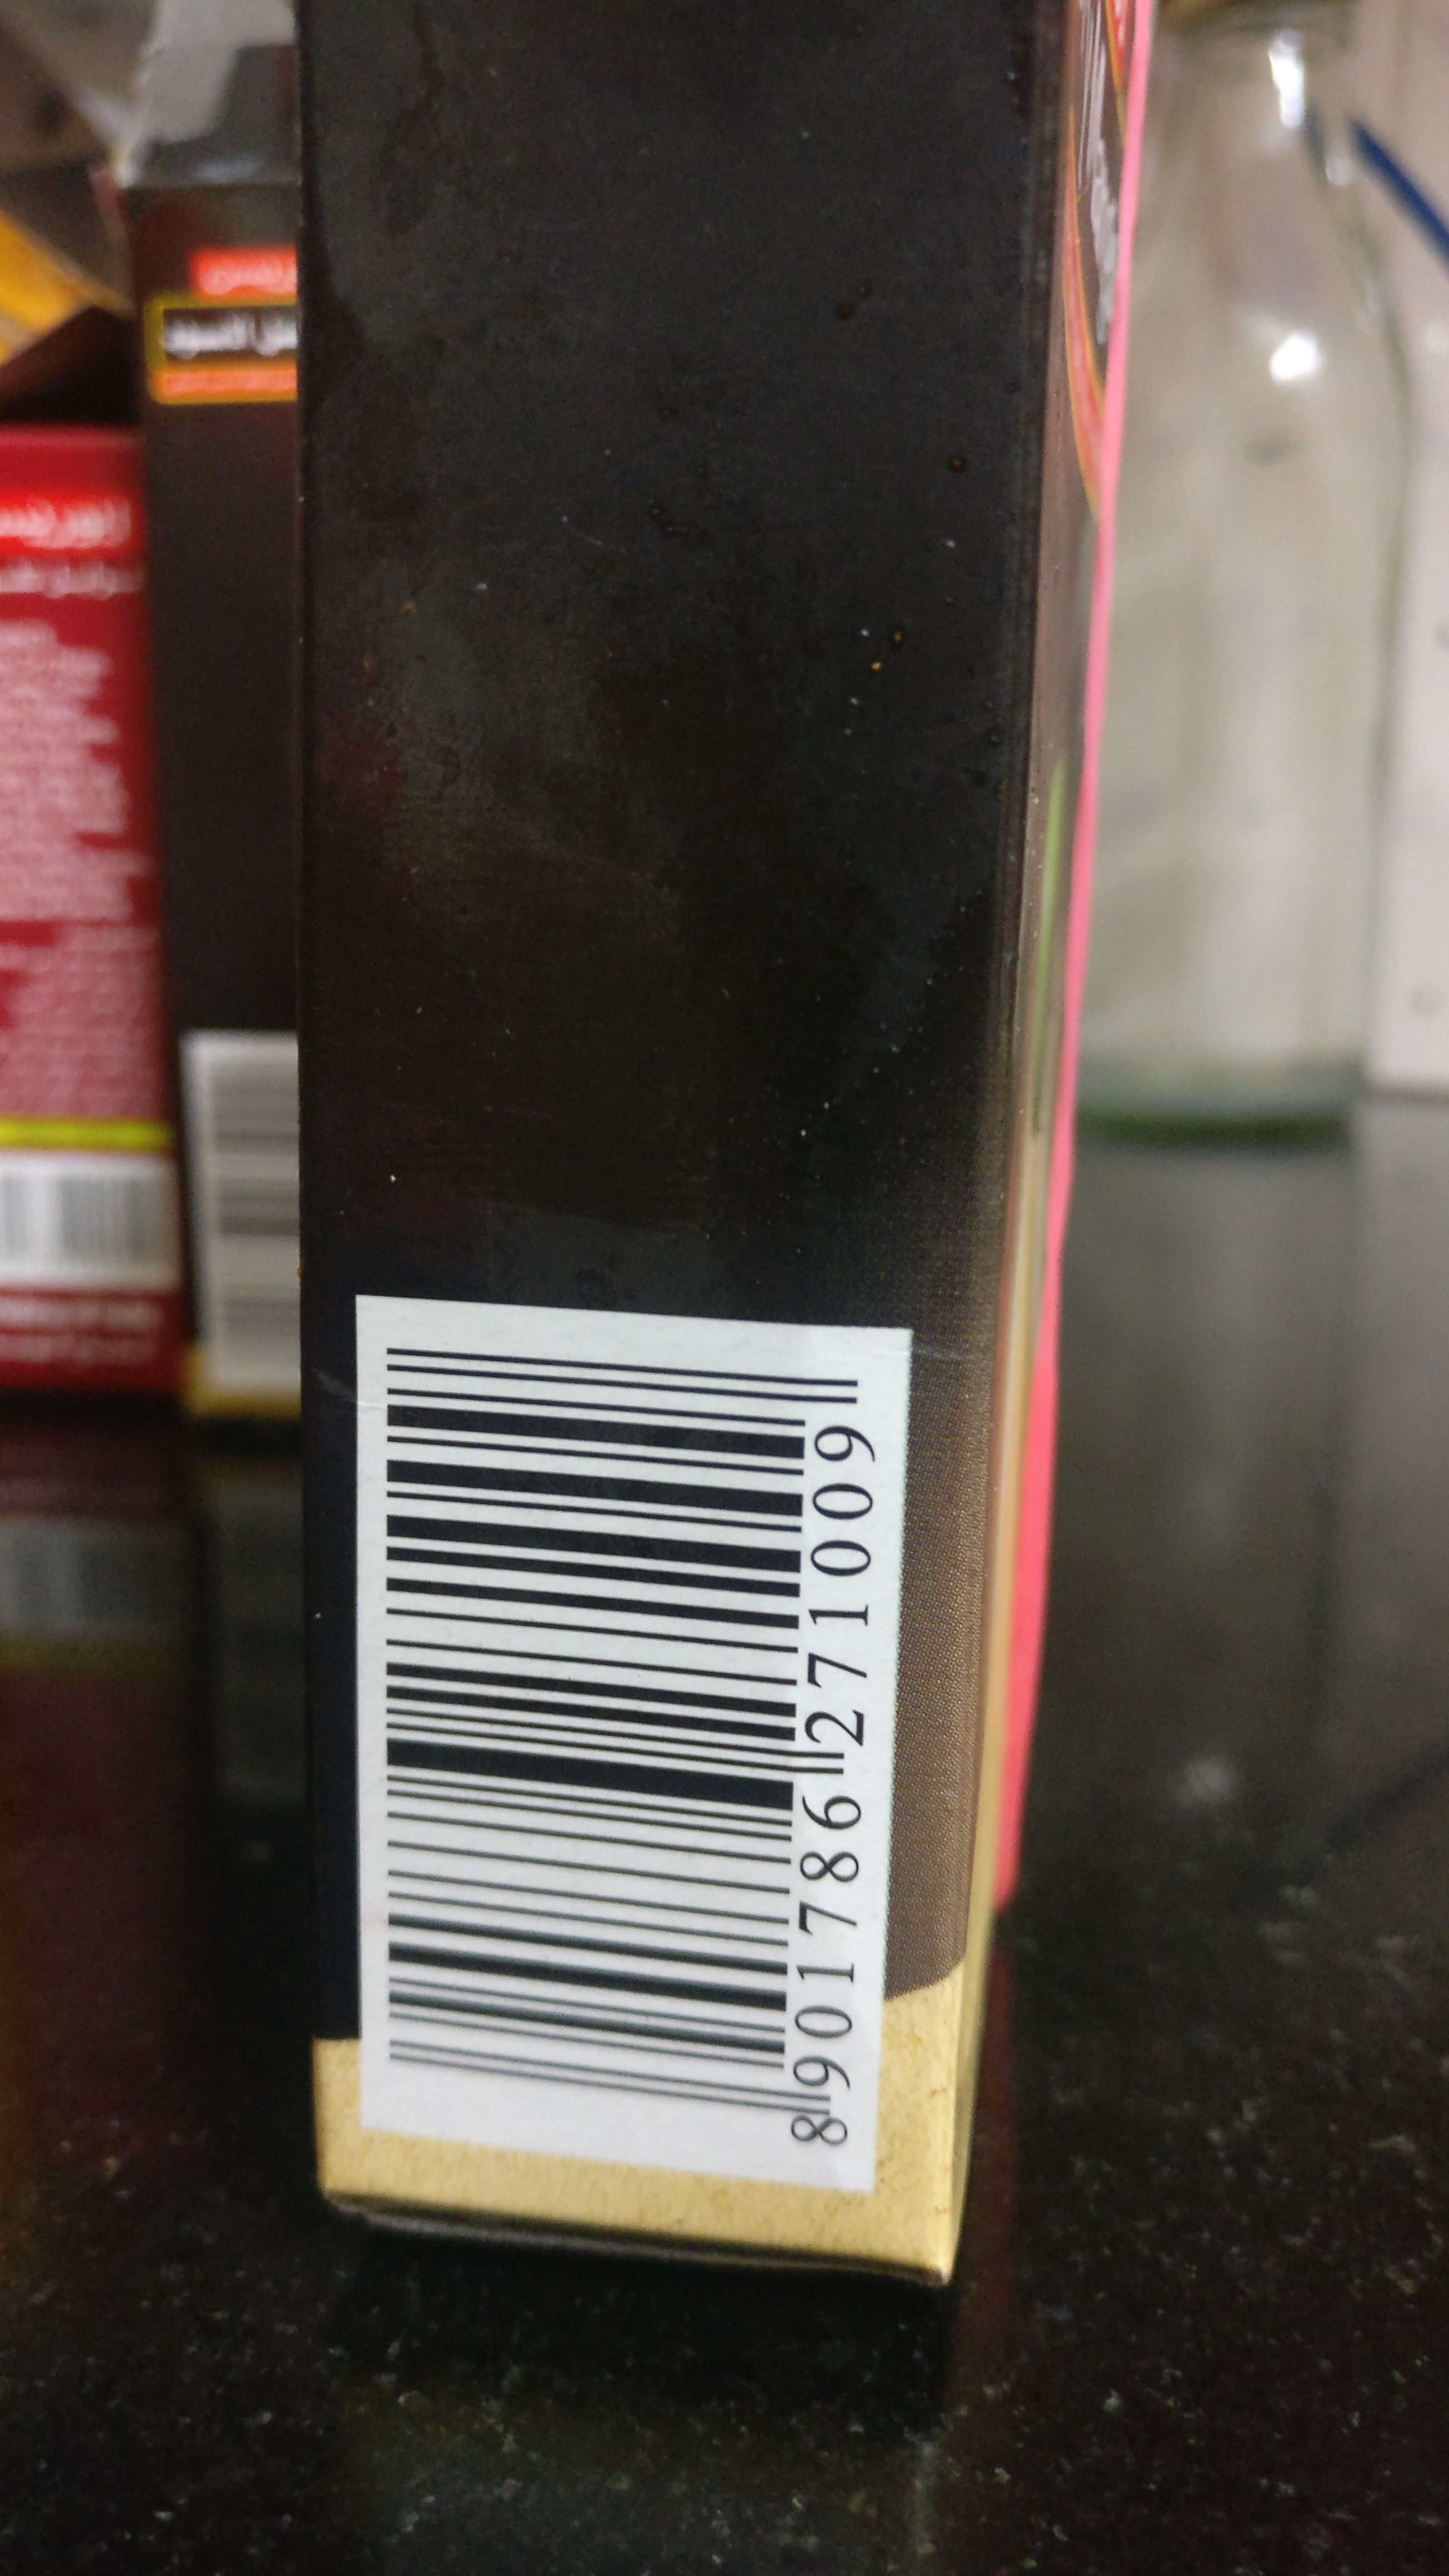barcode: (364, 1313, 885, 2190)
